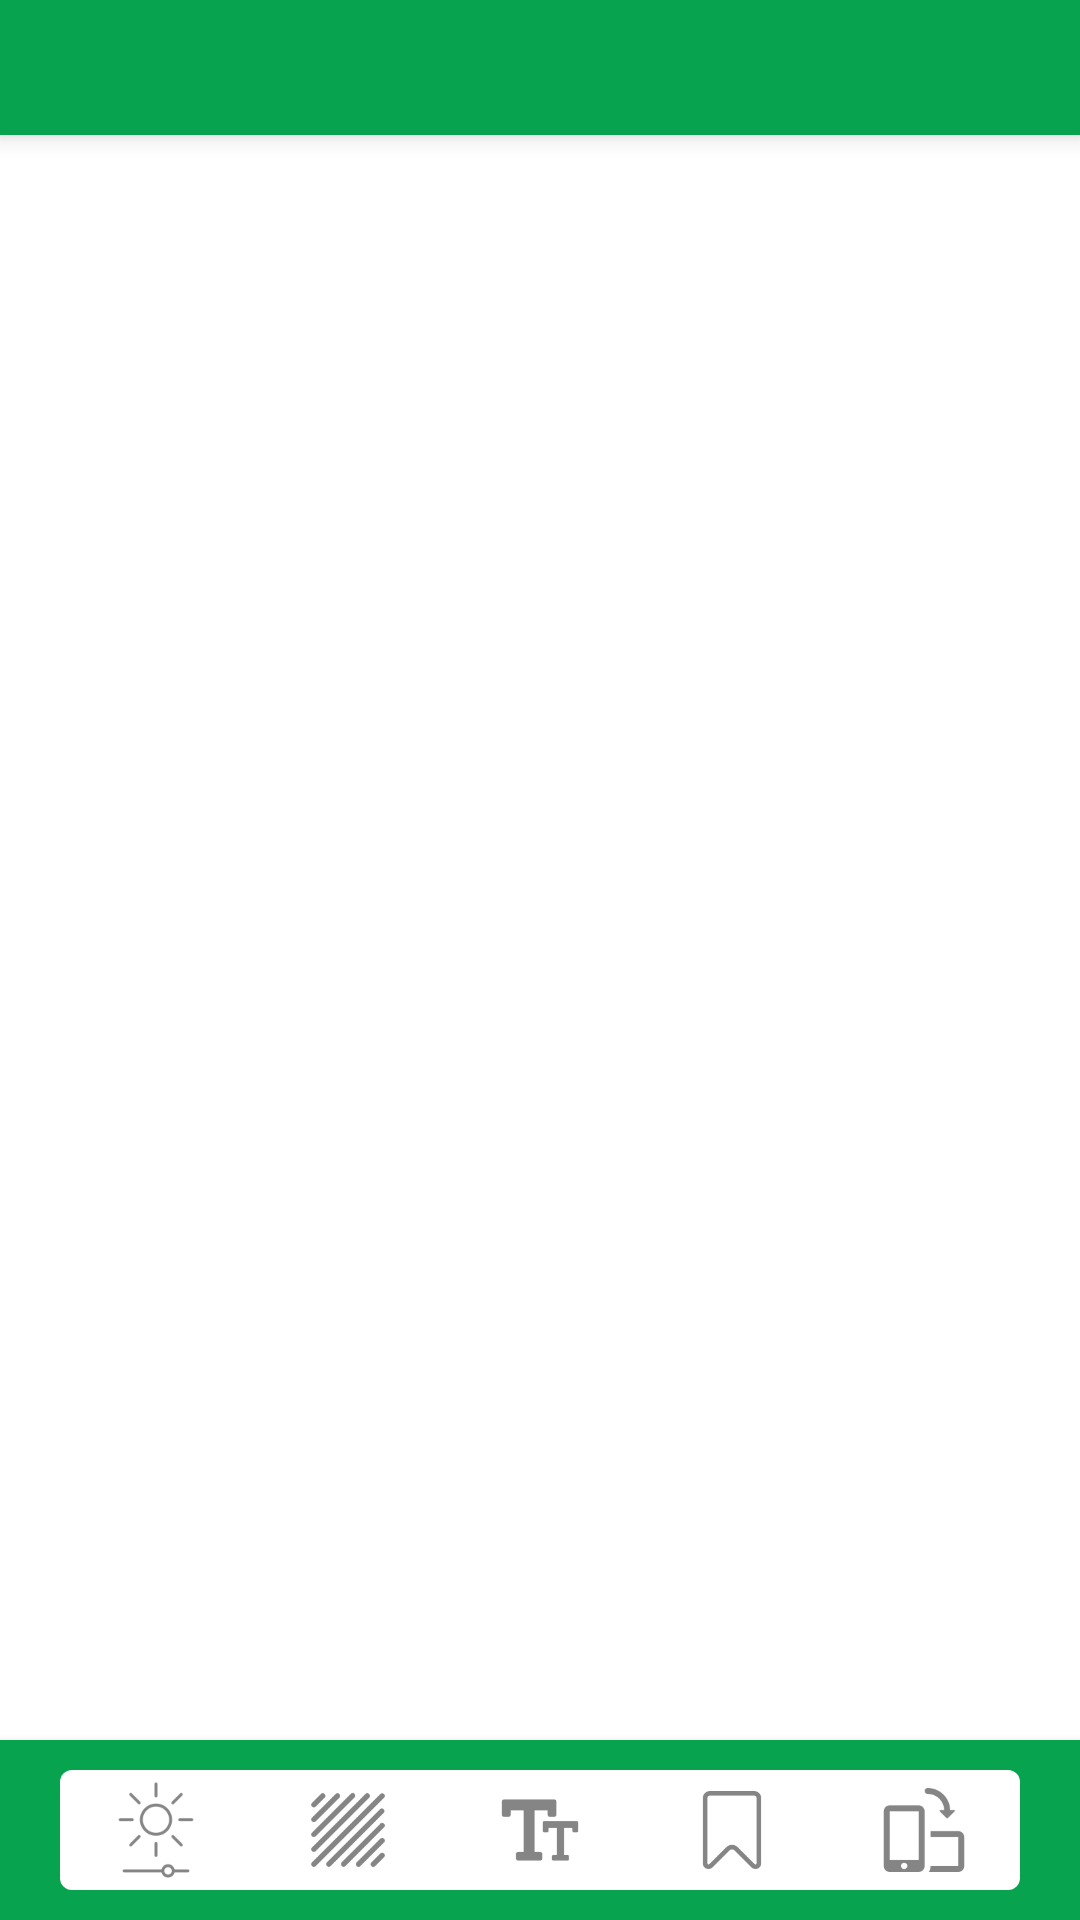

Icons on this 1080 x 1920 Android screen, each with the point to tap as [x,y]:
brightness: [156,1830]
rotate: [924,1830]
save: [732,1830]
textsize: [540,1830]
